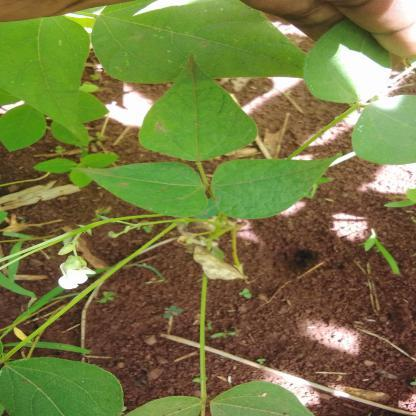Beans_Angular_LeafSpot: (95, 3, 304, 82), (129, 64, 255, 153), (66, 162, 206, 219), (0, 360, 132, 416)
